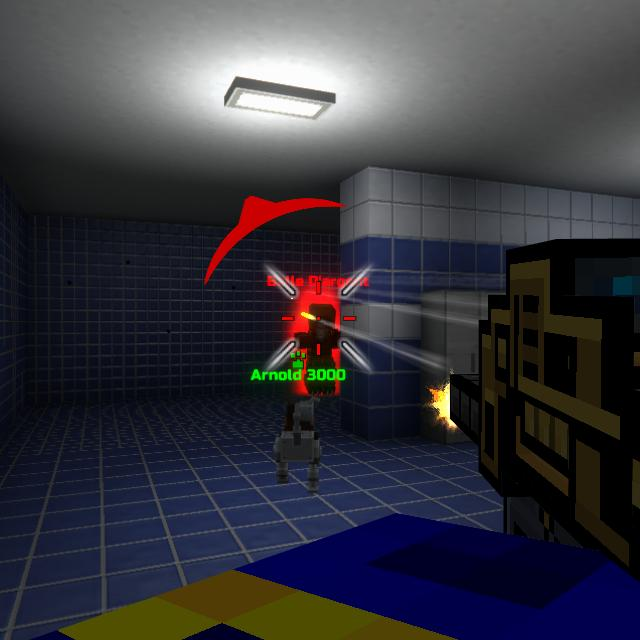Enemy: (291, 303, 339, 395)
